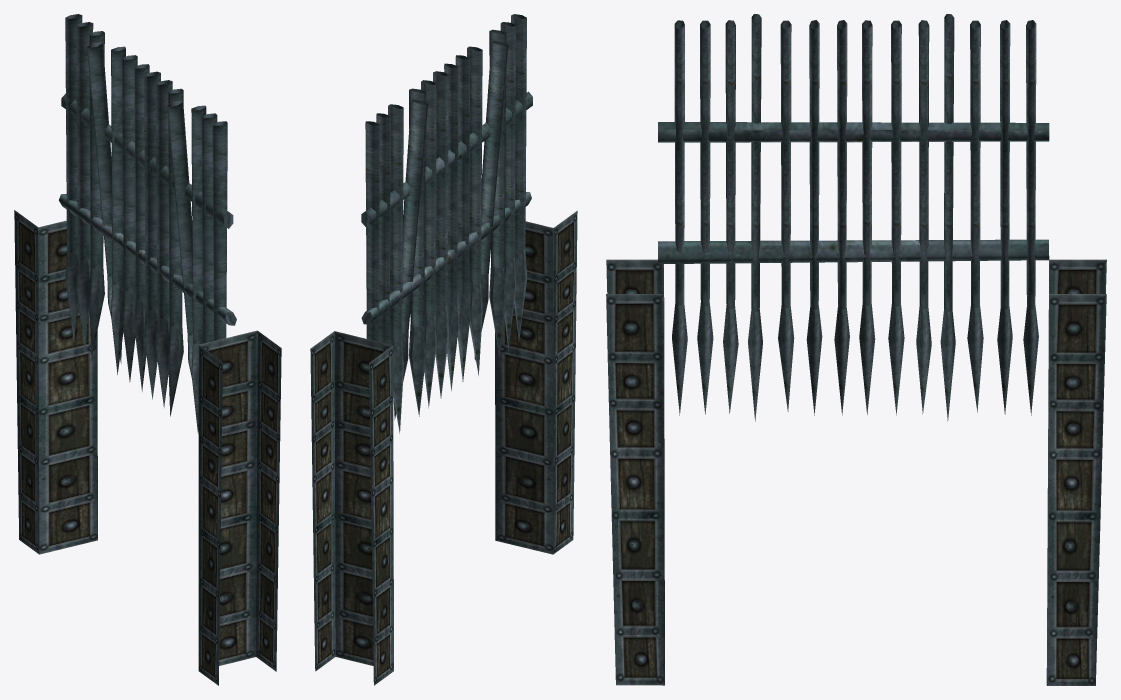
File: Tutorialdoor.fbx
3 renders of one model, left to right at view 1: azimuth 30°, elevation 25°; view 2: azimuth 150°, elevation 25°; view 3: azimuth 270°, elevation 25°, orthographic. The views are drawn at different scales.
Visible parts, largest first — view 1: doors_base_small_02, arrow; view 2: doors_base_small_02, arrow; view 3: arrow, doors_base_small_02.
Part boxes in pixels (x1=…): doors_base_small_02: x1=14, y1=210, x2=281, y2=685; arrow: x1=59, y1=14, x2=236, y2=433; doors_base_small_02: x1=310, y1=210, x2=577, y2=685; arrow: x1=361, y1=14, x2=532, y2=433; arrow: x1=658, y1=14, x2=1049, y2=421; doors_base_small_02: x1=606, y1=259, x2=1106, y2=685.
Size of the model in its own units: 33.77 by 294 by 208.
